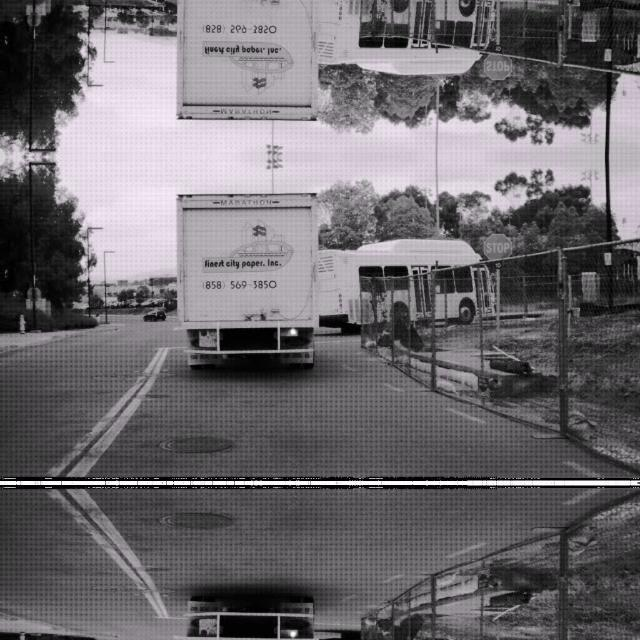stop: (482, 51, 512, 80), (482, 232, 512, 260)
